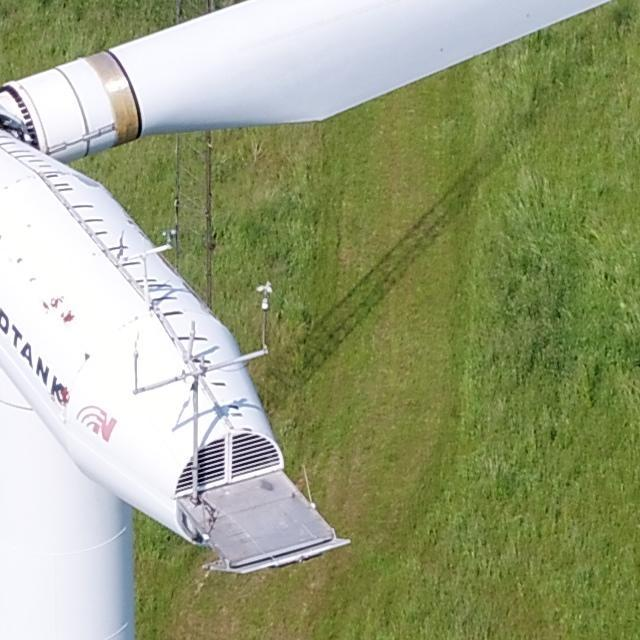damage: (58, 387, 73, 406), (61, 308, 77, 324), (50, 297, 60, 309), (82, 352, 91, 362), (42, 301, 51, 310)
